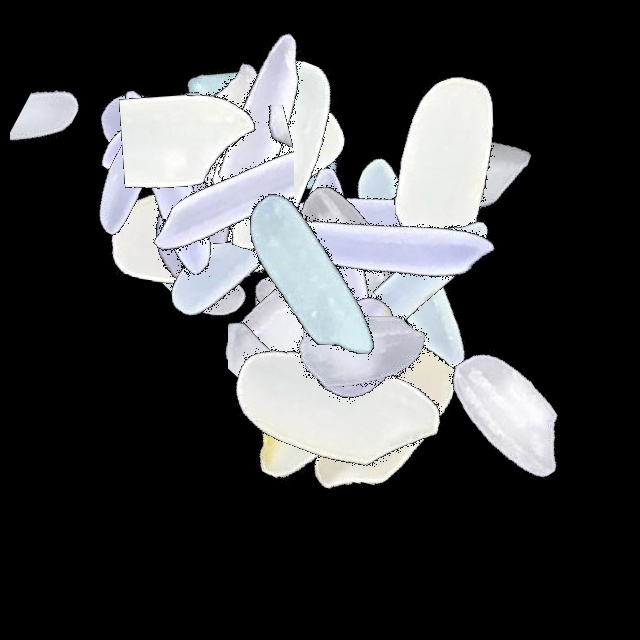Broken: (159, 32, 409, 205), (81, 0, 239, 250), (76, 59, 326, 217), (240, 214, 396, 464), (140, 36, 294, 286), (367, 132, 516, 382), (281, 223, 429, 473), (142, 108, 283, 358), (59, 105, 309, 245), (136, 240, 386, 369), (73, 0, 199, 250), (296, 145, 420, 395), (228, 217, 350, 467), (307, 193, 419, 443), (264, 252, 375, 502), (10, 21, 120, 271), (262, 211, 512, 315), (123, 105, 373, 192), (256, 252, 506, 332), (295, 239, 374, 489)
Full: (334, 51, 584, 301), (260, 293, 510, 543), (167, 222, 417, 472), (142, 0, 392, 250), (251, 126, 501, 376), (288, 135, 538, 385), (218, 240, 468, 490), (164, 233, 414, 483), (244, 89, 494, 339), (126, 32, 376, 282), (318, 51, 568, 301), (84, 111, 334, 361), (70, 102, 320, 352), (200, 182, 450, 432), (208, 192, 458, 442), (22, 14, 272, 264), (207, 144, 457, 394), (165, 199, 415, 449), (71, 4, 321, 254), (385, 288, 635, 538), (220, 123, 470, 373), (42, 55, 292, 305), (198, 273, 448, 523), (105, 0, 355, 250), (143, 29, 393, 279), (209, 283, 459, 533), (230, 224, 480, 474), (270, 120, 520, 370), (235, 227, 485, 477), (188, 150, 438, 400)
